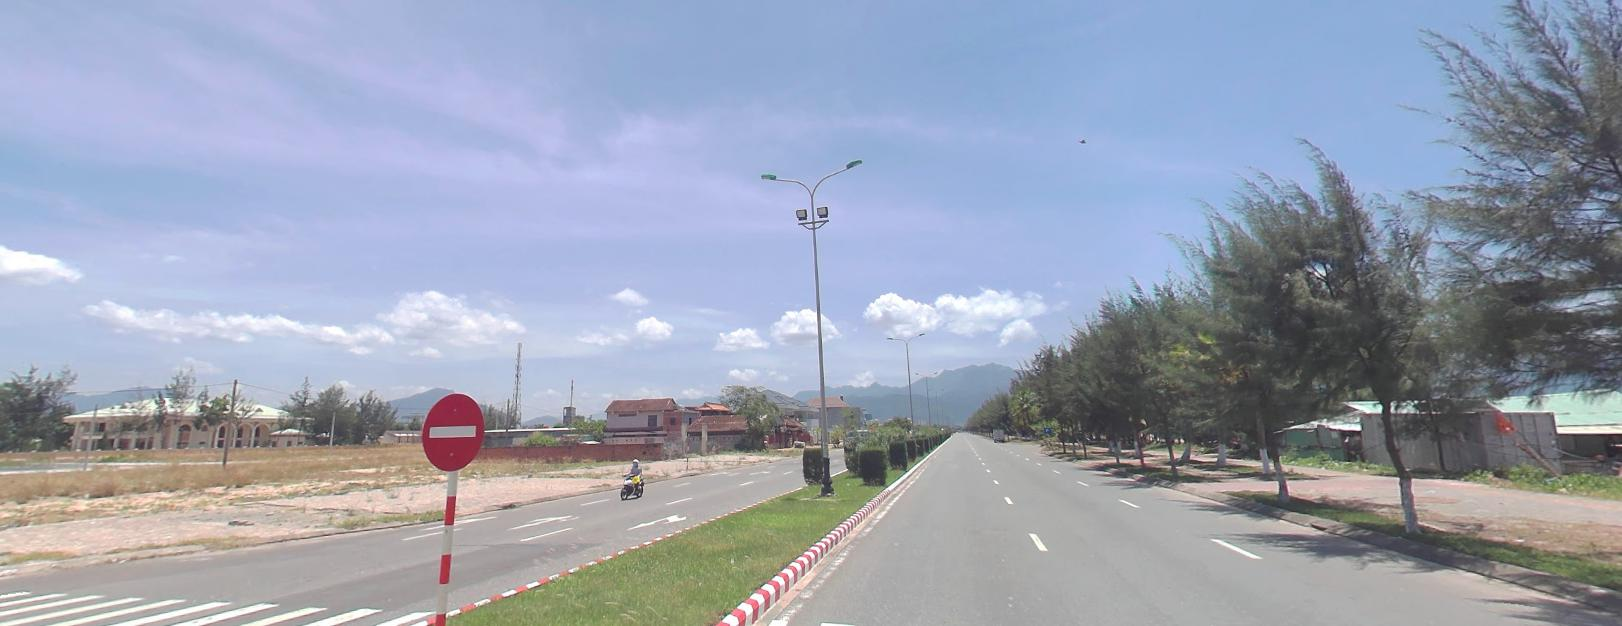Cam nguoc chieu: (423, 390, 483, 471)
